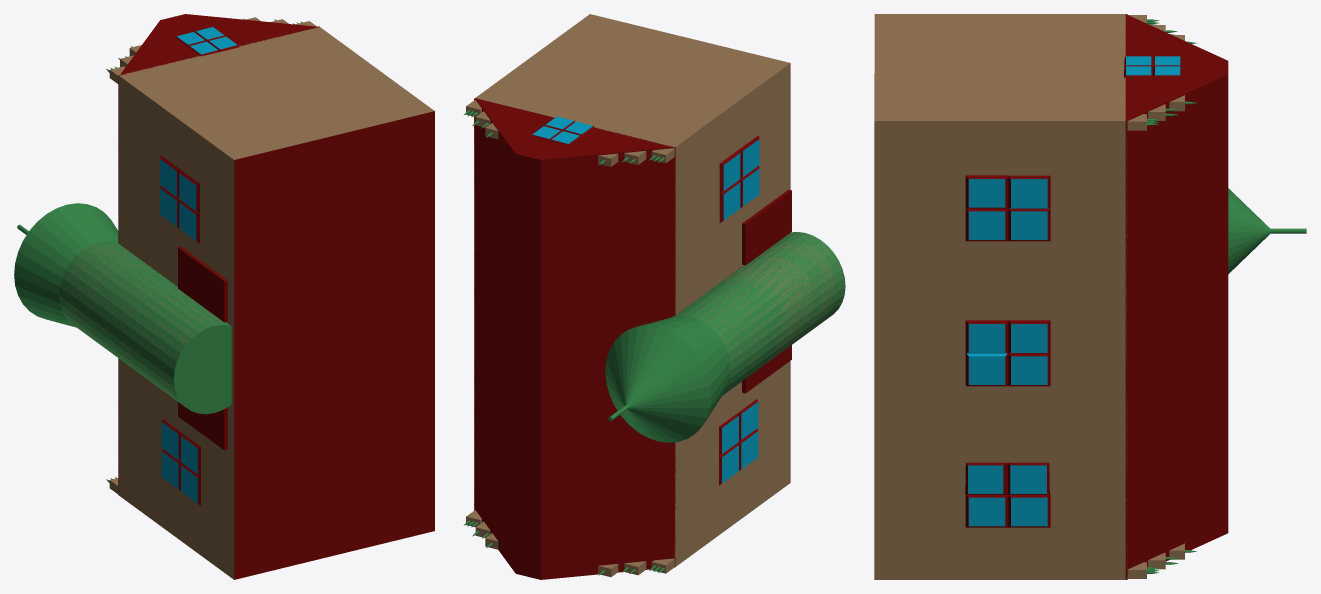
Rendered from TownHall.fbx.
3 renders of one model, left to right at view 1: azimuth 30°, elevation 25°; view 2: azimuth 150°, elevation 25°; view 3: azimuth 270°, elevation 25°, orthographic. The views are drawn at different scales.
Parts seen in each view (by area): view 1: TownHall; view 2: TownHall; view 3: TownHall.
Part boxes in pixels (x1,y1,x2,y2): TownHall: (14,14,434,579); TownHall: (463,14,845,579); TownHall: (874,14,1306,579).
Bounding box in the file's own units: 685 × 1006 × 851.
